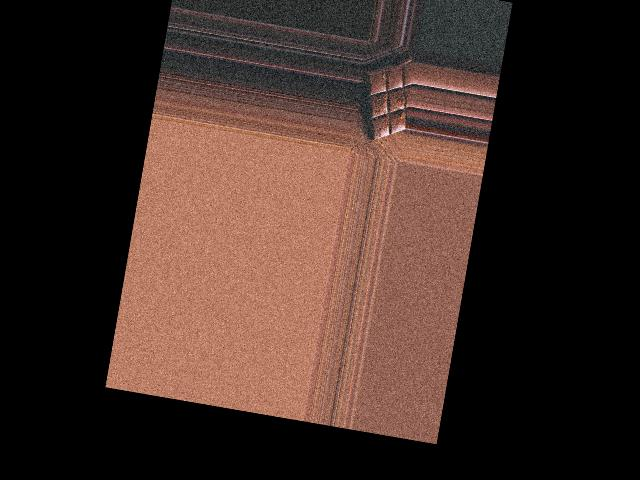chocolate: (354, 54, 416, 149)
